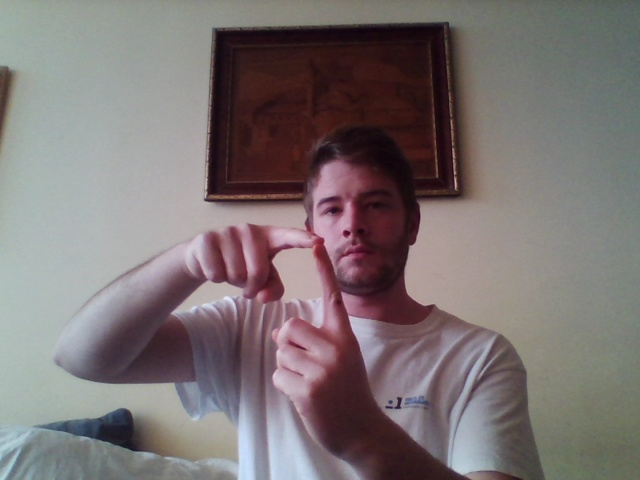kad: (182, 221, 373, 464)
